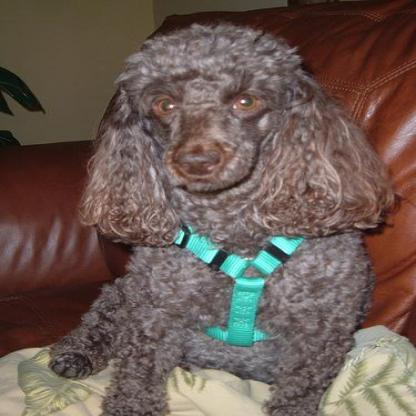miniature_poodle: (45, 21, 395, 409)
